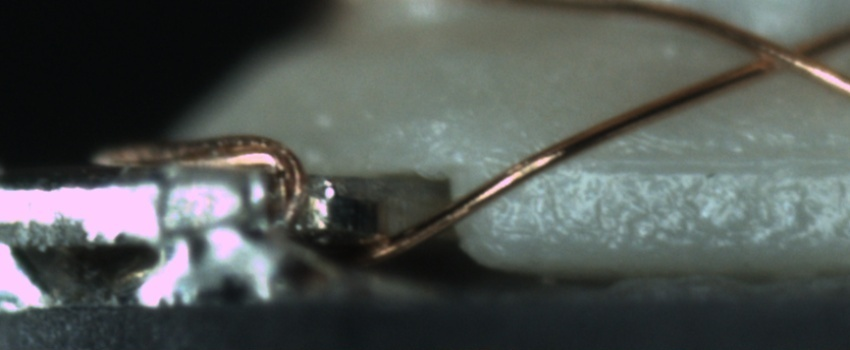CL: (722, 21, 842, 82)
DL: (554, 128, 849, 196)
TE: (87, 132, 316, 224)
